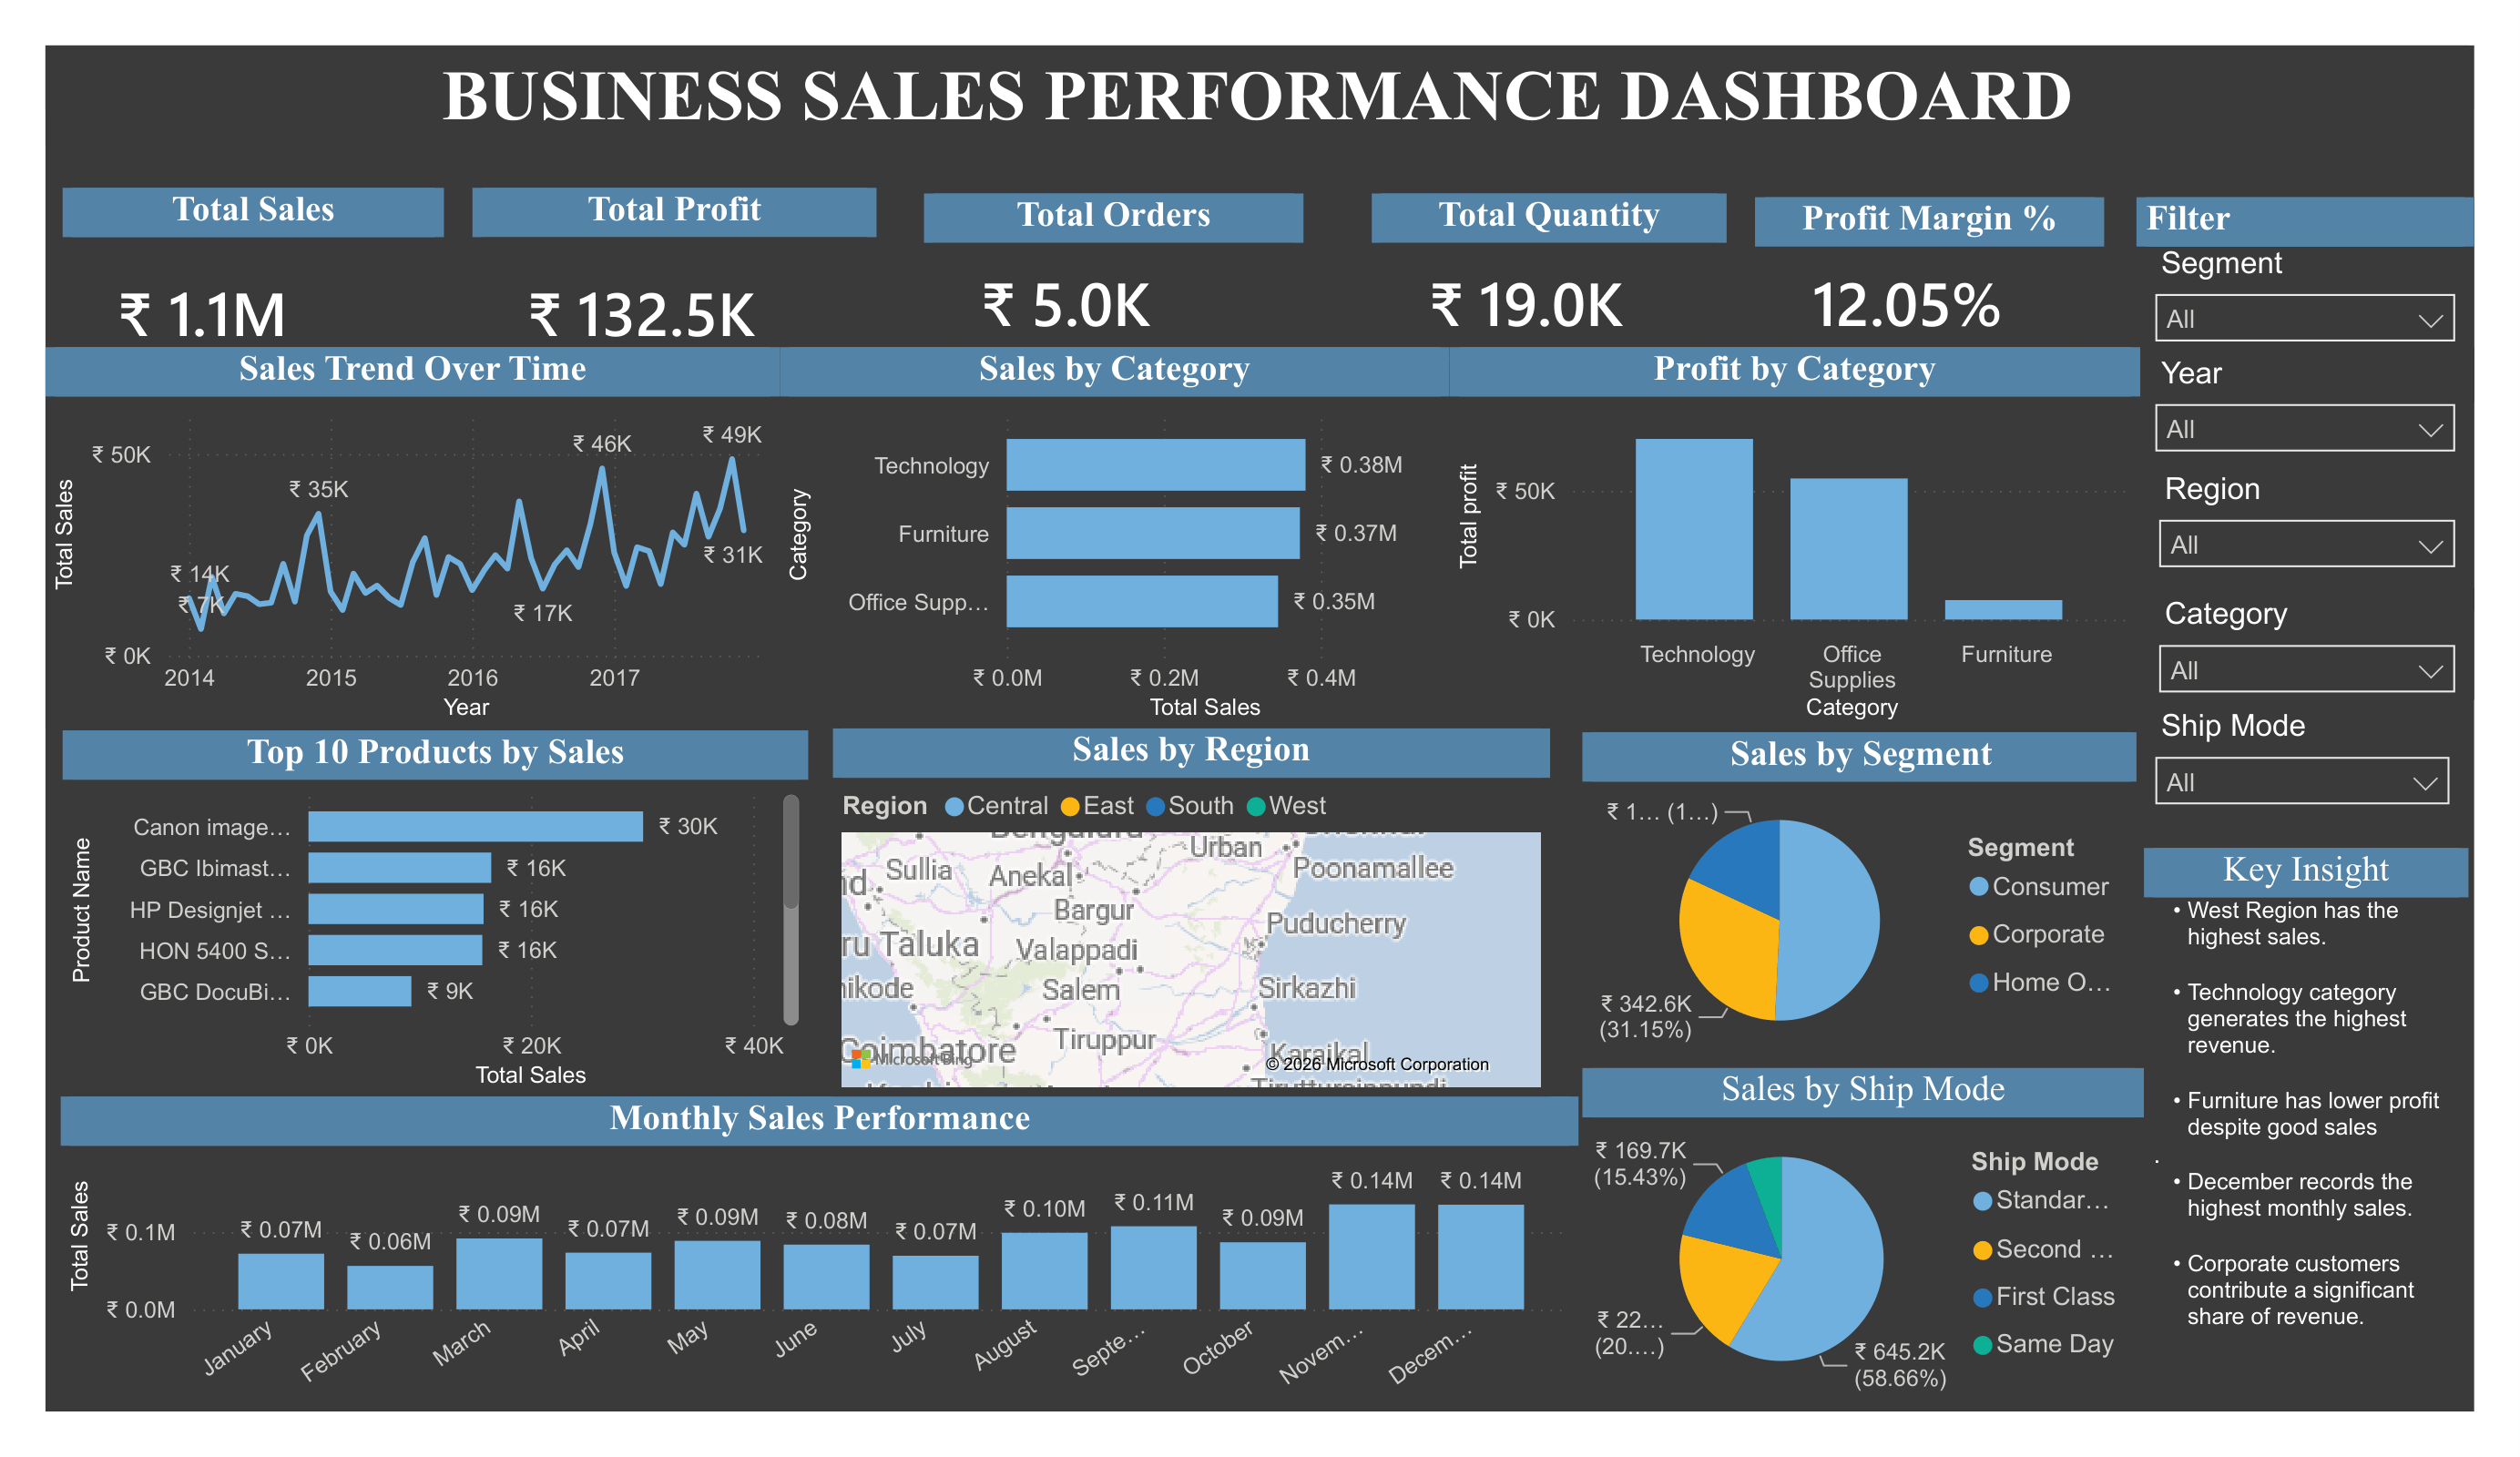

Layout of this report page (visuals, bound fields, positions):
{"tool":"powerbi","page":{"name":"Page 1","canvas":[1280,720],"ordinal":0},"visuals":[{"type":"cardVisual","title":"Total Sales","fields":{"Data":["Sample - Superstore.Total Sales"]},"box":[8.5,75,201.1,127.8],"z":0},{"type":"cardVisual","title":"Total Profit","fields":{"Data":["Sample - Superstore.Total profit"]},"box":[224.9,75,213,127.8],"z":1000},{"type":"cardVisual","title":"Total Orders","fields":{"Data":["Sample - Superstore.Total orders"]},"box":[463.5,78.4,199.4,110.8],"z":2000},{"type":"cardVisual","title":"Total Quantity","fields":{"Data":["Sample - Superstore.Total Quantity"]},"box":[698.6,78.4,187.4,110.8],"z":3000},{"type":"lineChart","title":"Sales Trend Over Time","fields":{"Y":["Sample - Superstore.Total Sales"],"Category":["Sample - Superstore.Order Date.Variation.Date Hierarchy.Year","Sample - Superstore.Order Date.Variation.Date Hierarchy.Month"]},"box":[0,158.6,387.1,200.9],"z":4000},{"type":"clusteredBarChart","title":"Sales by Category","fields":{"Category":["Sample - Superstore.Category"],"Y":["Sample - Superstore.Total Sales"]},"box":[387.1,158.6,353.2,200.9],"z":5000},{"type":"clusteredBarChart","title":"Top 10 Products by Sales","fields":{"Category":["Sample - Superstore.Product Name"],"Y":["Sample - Superstore.Total Sales"]},"box":[8.5,361.2,393.6,192.5],"z":7000},{"type":"pieChart","title":"Sales by Segment","fields":{"Category":["Sample - Superstore.Segment"],"Y":["Sample - Superstore.Total Sales"]},"box":[810.1,361.7,294,177.7],"z":8000},{"type":"clusteredColumnChart","title":"Monthly Sales Performance","fields":{"Category":["Sample - Superstore.Month Name"],"Y":["Sample - Superstore.Total Sales"]},"box":[8.5,554.1,799.5,165],"z":9000},{"type":"slicer","fields":{"Values":["Sample - Superstore.Region"]},"box":[1104.1,220,175.5,78.3],"z":10000},{"type":"slicer","fields":{"Values":["Sample - Superstore.Category"]},"box":[1104.1,285.5,175.5,59.2],"z":11000},{"type":"slicer","title":"Filter","fields":{"Values":["Sample - Superstore.Segment"]},"box":[1101.9,80.4,177.7,107.9],"z":12000},{"type":"slicer","fields":{"Values":["Sample - Superstore.Year"]},"box":[1101.9,158.6,177.7,61.3],"z":13000},{"type":"textbox","box":[0,0,1277.5,52.9],"z":14000},{"type":"pieChart","title":"Sales by Ship Mode","fields":{"Y":["Sample - Superstore.Total Sales"],"Category":["Sample - Superstore.Ship Mode"]},"box":[810.1,539.3,296.1,179.8],"z":15000},{"type":"cardVisual","title":"Profit Margin %","fields":{"Data":["Sample - Superstore.Profit Margin%"]},"box":[901,80.4,184,105.8],"z":16000},{"type":"clusteredColumnChart","title":"Profit by Category","fields":{"Category":["Sample - Superstore.Category"],"Y":["Sample - Superstore.Total profit"]},"box":[740.3,158.6,363.8,200.9],"z":17000},{"type":"map","title":"Sales by Region","fields":{"Size":["Sum(Sample - Superstore.Sales)"],"Series":["Sample - Superstore.Region"]},"box":[414.5,359.6,378.6,194.6],"z":17001},{"type":"slicer","fields":{"Values":["Sample - Superstore.Ship Mode"]},"box":[1101.9,344.8,175.5,61.3],"z":17002},{"type":"textbox","title":"Key Insight","box":[1106.2,423,171.3,296.1],"z":17003}]}

Visuals, with their boxes on the page's 1280x720 design canvas (x1, y1, x2, y2). These are canvas units, not pixel positions in the 2520x1457 screenshot, which may show the page scaled, cropped or inside an application window:
"Total Sales" cardVisual: Rect(8, 75, 210, 203)
"Total Profit" cardVisual: Rect(225, 75, 438, 203)
"Total Orders" cardVisual: Rect(464, 78, 663, 189)
"Total Quantity" cardVisual: Rect(699, 78, 886, 189)
"Sales Trend Over Time" lineChart: Rect(0, 159, 387, 360)
"Sales by Category" clusteredBarChart: Rect(387, 159, 740, 360)
"Top 10 Products by Sales" clusteredBarChart: Rect(8, 361, 402, 554)
"Sales by Segment" pieChart: Rect(810, 362, 1104, 539)
"Monthly Sales Performance" clusteredColumnChart: Rect(8, 554, 808, 719)
slicer - Sample - Superstore.Region: Rect(1104, 220, 1280, 298)
slicer - Sample - Superstore.Category: Rect(1104, 286, 1280, 345)
"Filter" slicer: Rect(1102, 80, 1280, 188)
slicer - Sample - Superstore.Year: Rect(1102, 159, 1280, 220)
textbox: Rect(0, 0, 1278, 53)
"Sales by Ship Mode" pieChart: Rect(810, 539, 1106, 719)
"Profit Margin %" cardVisual: Rect(901, 80, 1085, 186)
"Profit by Category" clusteredColumnChart: Rect(740, 159, 1104, 360)
"Sales by Region" map: Rect(414, 360, 793, 554)
slicer - Sample - Superstore.Ship Mode: Rect(1102, 345, 1277, 406)
"Key Insight" textbox: Rect(1106, 423, 1278, 719)
